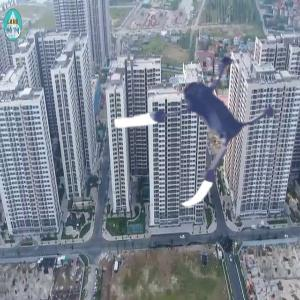drone: (107, 29, 290, 212)
